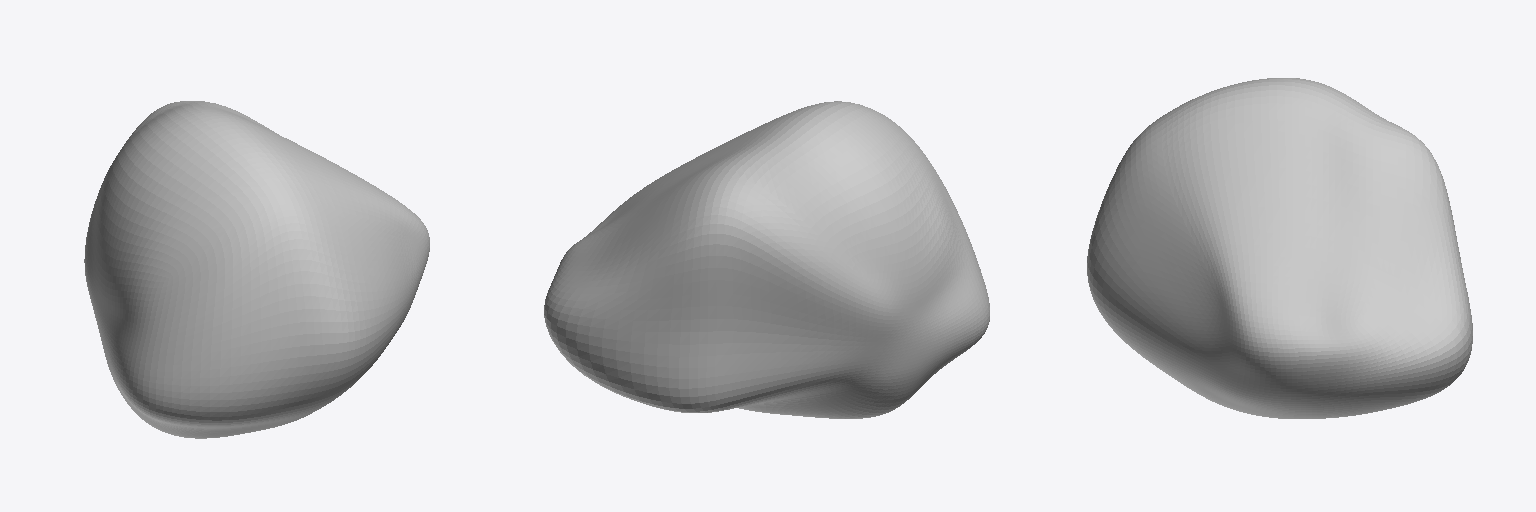
Rendered from pebbles_3.obj.
3 renders of one model, left to right at view 1: azimuth 30°, elevation 25°; view 2: azimuth 150°, elevation 25°; view 3: azimuth 270°, elevation 25°, orthographic.
Visible parts, largest first — view 1: Rock.Landscape.Style_3; view 2: Rock.Landscape.Style_3; view 3: Rock.Landscape.Style_3.
Part boxes in pixels (x1,y1,x2,y2): Rock.Landscape.Style_3: (84, 101, 429, 438); Rock.Landscape.Style_3: (544, 101, 989, 418); Rock.Landscape.Style_3: (1087, 78, 1472, 418).
Size of the model in its own units: 2.53 by 2.11 by 2.49.